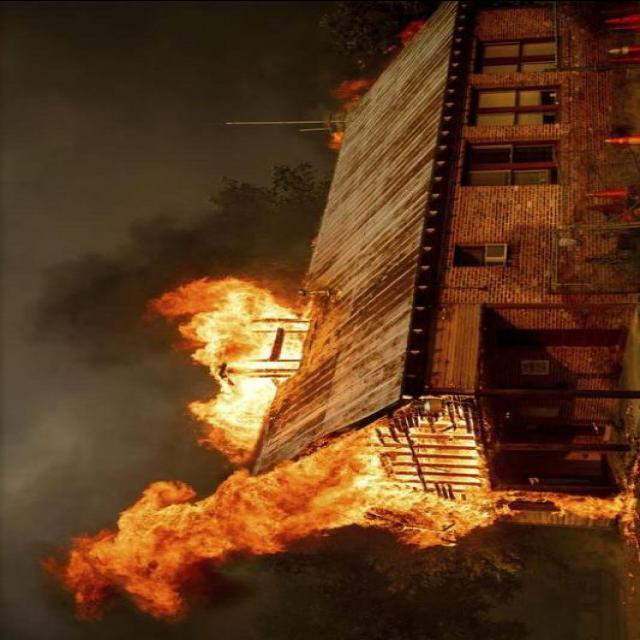Fire: (33, 269, 638, 622), (328, 74, 376, 110), (323, 127, 348, 147)
